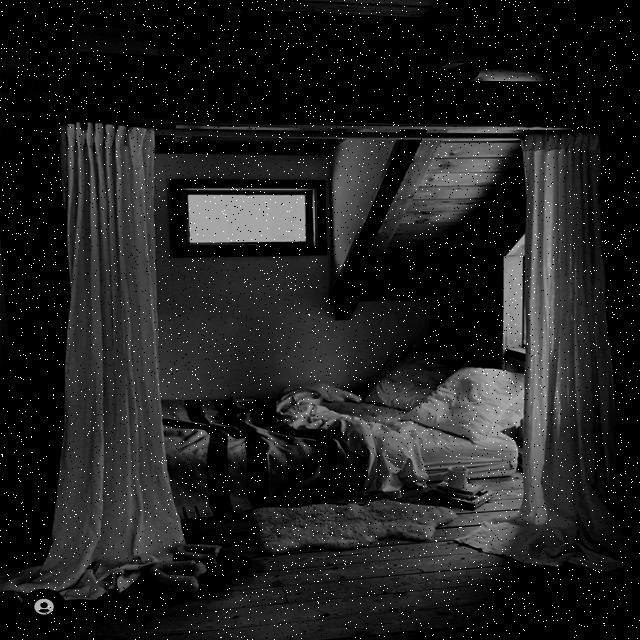bed: (155, 344, 532, 522)
